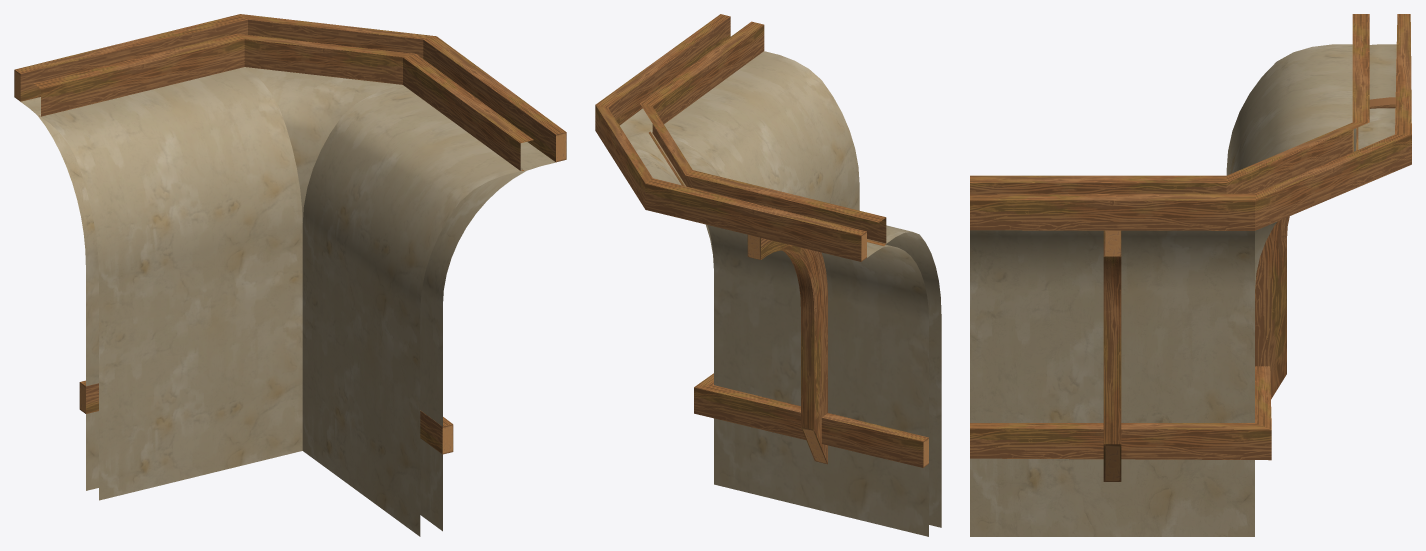
Rendered from Overhang_Plaster_Corner.gltf.
The picture shows the model from 3 angles, left to right: view 1: azimuth 30°, elevation 25°; view 2: azimuth 150°, elevation 25°; view 3: azimuth 270°, elevation 25°; orthographic projection. The views are drawn at different scales.
Parts seen in each view (by area): view 1: Overhang_Plaster_Corner; view 2: Overhang_Plaster_Corner; view 3: Overhang_Plaster_Corner.
Boxes of the visible parts, x1,y1,x2,y2 form: Overhang_Plaster_Corner: [14, 14, 566, 536]; Overhang_Plaster_Corner: [595, 14, 941, 536]; Overhang_Plaster_Corner: [970, 14, 1411, 536].
Size of the model in its own units: 3.1 by 3.12 by 3.1.
Materials: 2 (2 with a texture image).
